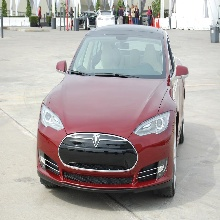no damage: (37, 25, 186, 201)
